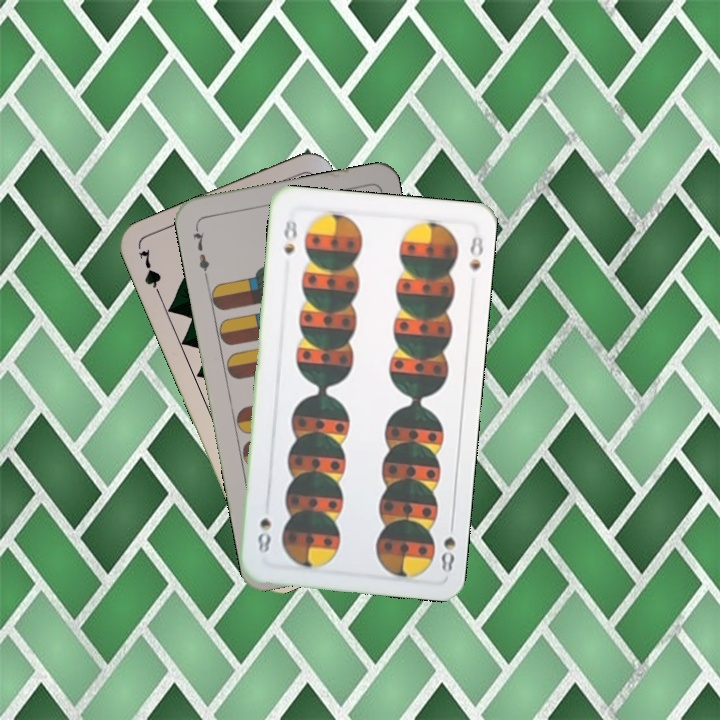E7: (189, 222, 212, 281)
G7: (135, 245, 166, 303)
S8: (437, 516, 458, 575), (279, 215, 300, 257)
